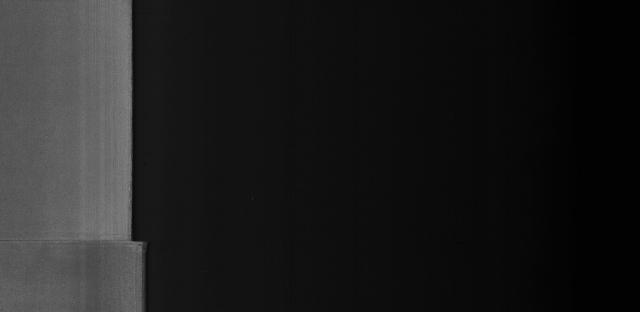welding_line: (2, 227, 166, 253)
